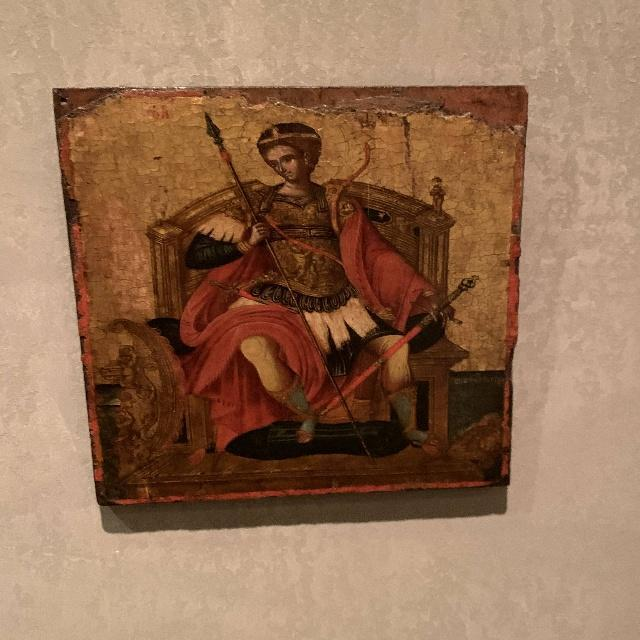spear: (215, 116, 349, 438)
st_demetrios: (198, 112, 462, 497)
sword: (289, 276, 490, 434)
